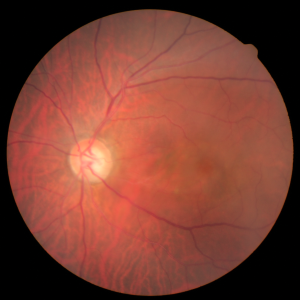glaucoma: (31, 108, 232, 220)
